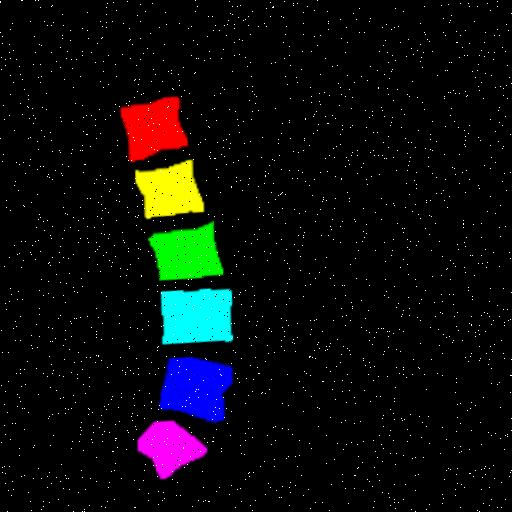L1: (123, 95, 191, 159)
L2: (139, 157, 208, 215)
L3: (155, 219, 228, 278)
L4: (167, 286, 239, 342)
L5: (168, 354, 240, 418)
S1: (146, 418, 216, 477)
